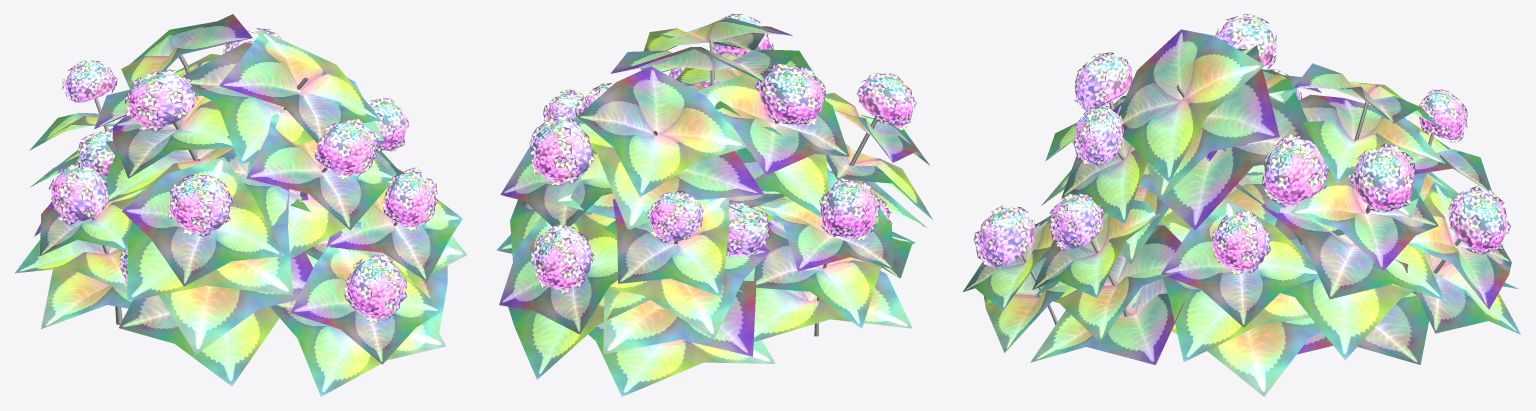
Rendered from hydrangea_SM.fbx.
3 renders of one model, left to right at view 1: azimuth 30°, elevation 25°; view 2: azimuth 150°, elevation 25°; view 3: azimuth 270°, elevation 25°, orthographic. The views are drawn at different scales.
Parts seen in each view (by area): view 1: hydrangea_SM_LOD0; view 2: hydrangea_SM_LOD0; view 3: hydrangea_SM_LOD0.
Part boxes in pixels (box(x1,y1,x2,y2)): hydrangea_SM_LOD0: box(15, 14, 466, 396); hydrangea_SM_LOD0: box(496, 14, 933, 396); hydrangea_SM_LOD0: box(963, 14, 1520, 396).
Size of the model in its own units: 318 by 393 by 223.
3 materials, 2 textured.
